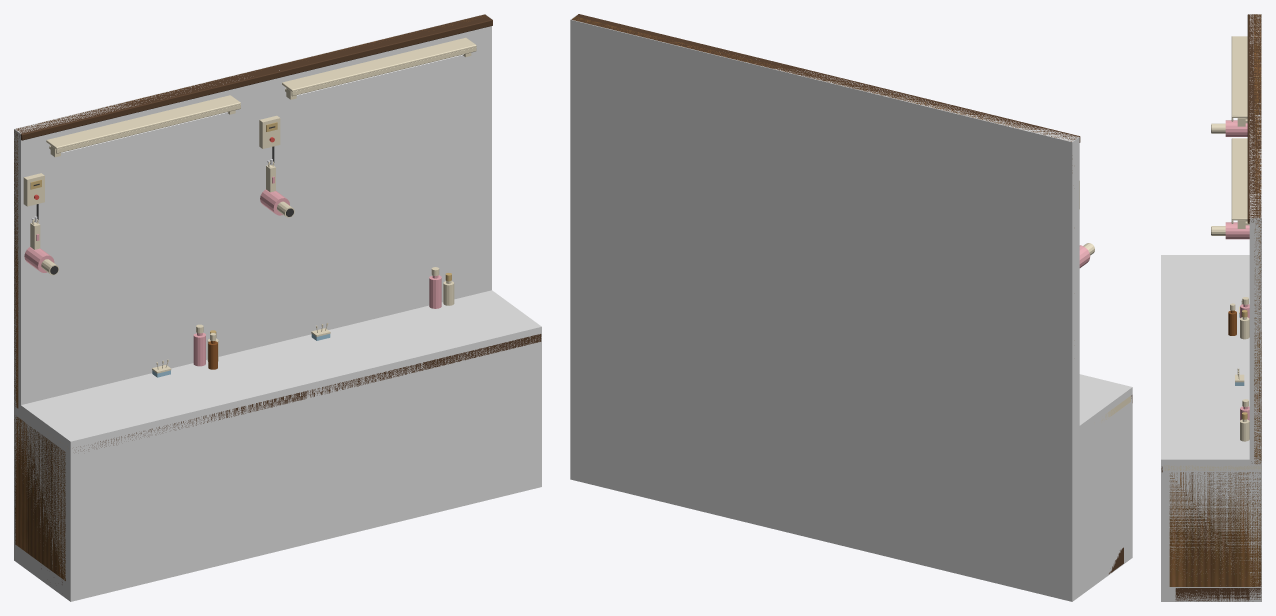
Rendered from vanity_mirror.mobile.glb.
3 renders of one model, left to right at view 1: azimuth 30°, elevation 25°; view 2: azimuth 150°, elevation 25°; view 3: azimuth 270°, elevation 25°, orthographic. The views are drawn at different scales.
Visible parts, largest first — view 1: COL_Backboard, COL_Counter, VanityMirror; view 2: COL_Backboard, COL_Counter, VanityMirror; view 3: COL_Counter, VanityMirror, COL_Backboard.
Boxes of the visible parts, x1,y1,x2,y2 form: COL_Backboard: (14, 14, 491, 564); COL_Counter: (14, 290, 541, 601); VanityMirror: (14, 14, 541, 584); COL_Backboard: (570, 14, 1079, 601); COL_Counter: (1072, 374, 1132, 601); VanityMirror: (571, 14, 1132, 573); COL_Counter: (1161, 255, 1261, 601); VanityMirror: (1161, 14, 1261, 601); COL_Backboard: (1249, 14, 1261, 601).
Size of the model in its own units: 2.4 by 2.1 by 0.4999.
13 materials, 2 textured.
